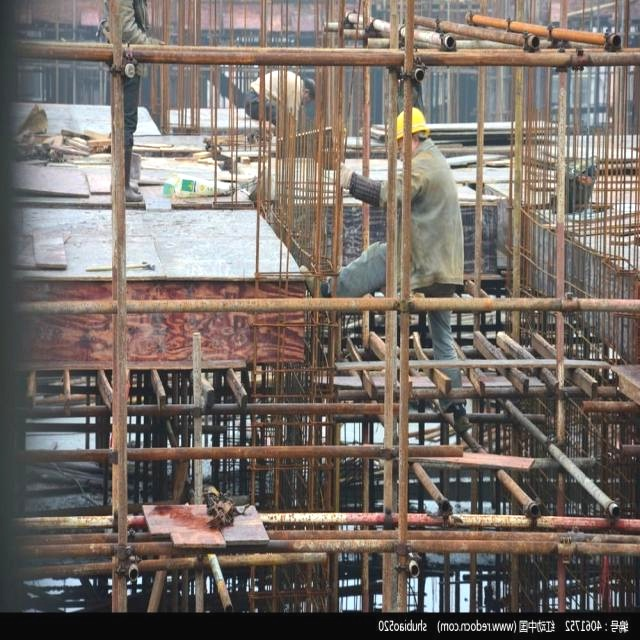Con_Casco: (395, 104, 429, 160)
